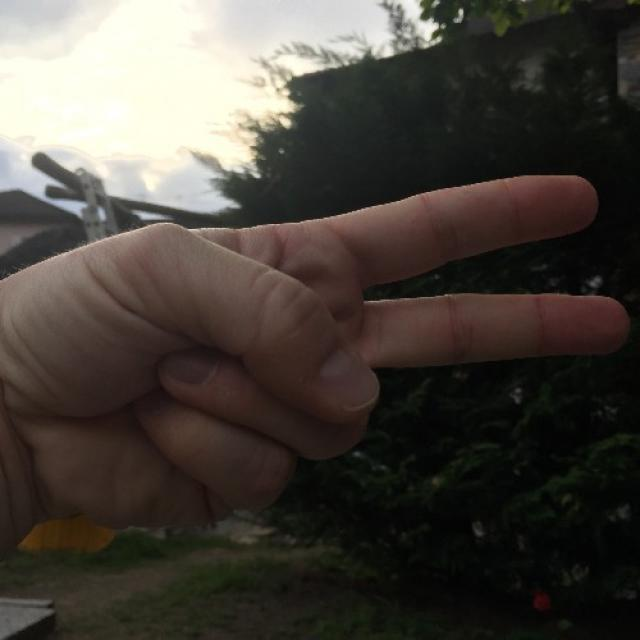scissors: (107, 170, 634, 520)
